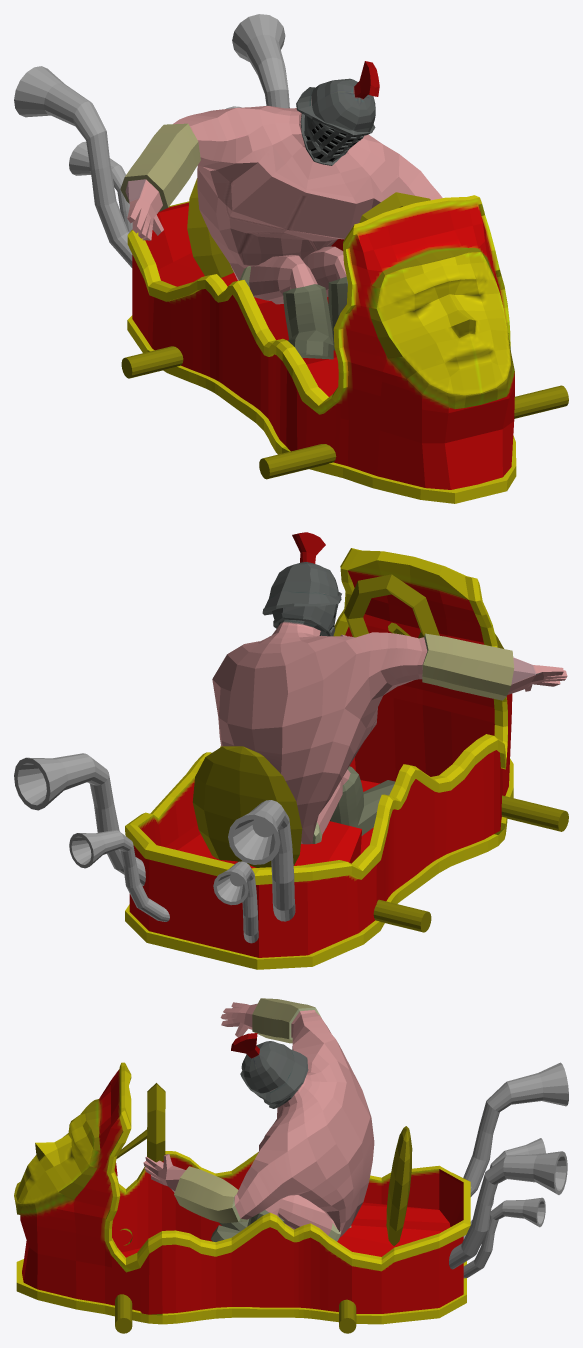
File: gladiVacile_000553.obj
3 views of the same model, one above another, from view 1: azimuth 30°, elevation 25°; view 2: azimuth 150°, elevation 25°; view 3: azimuth 270°, elevation 25° (orthographic). The views are drawn at different scales.
Visible parts, largest first — view 1: GladiChasis_GladiChasisH, Gadiador_Gladiador_H.001, GladiTubos_GladiTubosH, GladiVolante_GladiVolanteH; view 2: GladiChasis_GladiChasisH, Gadiador_Gladiador_H.001, GladiTubos_GladiTubosH, GladiVolante_GladiVolanteH; view 3: GladiChasis_GladiChasisH, Gadiador_Gladiador_H.001, GladiTubos_GladiTubosH, GladiVolante_GladiVolanteH.
Boxes of the visible parts, x1,y1,x2,y2 form: GladiChasis_GladiChasisH: [127, 195, 516, 503]; Gadiador_Gladiador_H.001: [120, 61, 442, 359]; GladiTubos_GladiTubosH: [14, 14, 289, 267]; GladiVolante_GladiVolanteH: [121, 178, 568, 479]; GladiChasis_GladiChasisH: [125, 548, 513, 969]; Gadiador_Gladiador_H.001: [212, 532, 567, 844]; GladiTubos_GladiTubosH: [14, 753, 295, 943]; GladiVolante_GladiVolanteH: [192, 574, 568, 932]; GladiChasis_GladiChasisH: [14, 1062, 470, 1324]; Gadiador_Gladiador_H.001: [143, 998, 374, 1241]; GladiTubos_GladiTubosH: [449, 1062, 568, 1278]; GladiVolante_GladiVolanteH: [115, 1083, 412, 1333].
Size of the model in its own units: 6.71 by 5.59 by 10.78.
